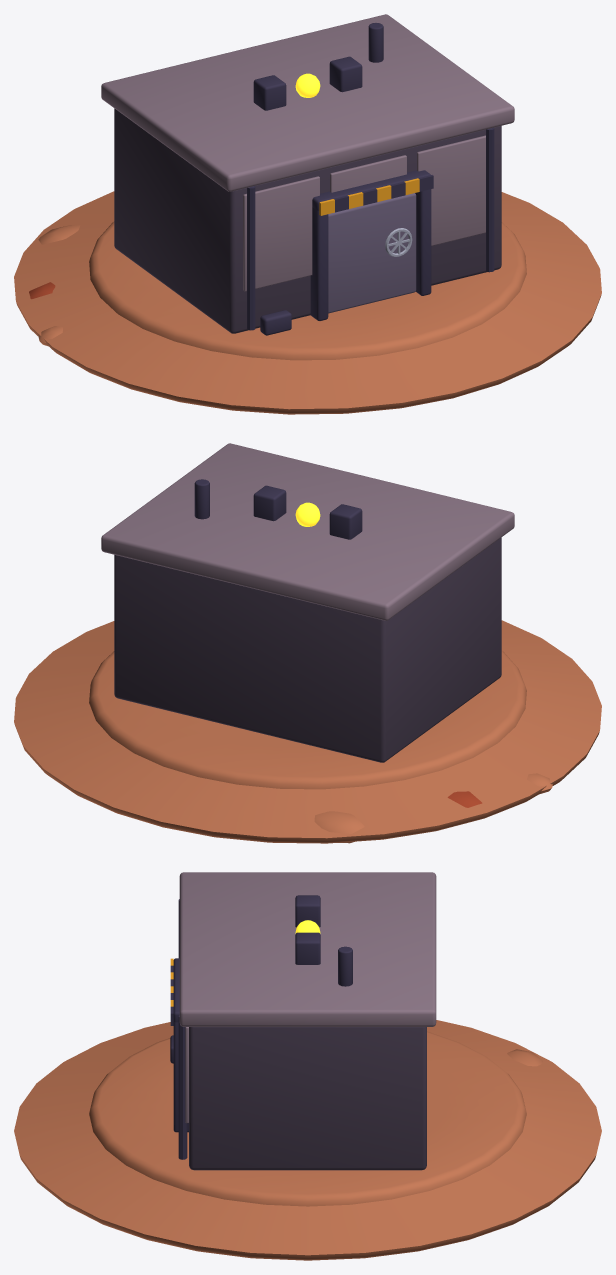
The model's file is shelter.glb.
3 renders of one model, top to bottom at view 1: azimuth 30°, elevation 25°; view 2: azimuth 150°, elevation 25°; view 3: azimuth 270°, elevation 25°, orthographic.
Parts seen in each view (by area): view 1: shelter; view 2: shelter; view 3: shelter.
Boxes of the visible parts, x1,y1,x2,y2 form: shelter: (14,14,601,414); shelter: (14,443,601,843); shelter: (14,872,601,1260).
Size of the model in its own units: 9.42 by 4.22 by 9.4.
